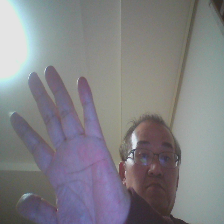hand: (9, 69, 127, 223)
